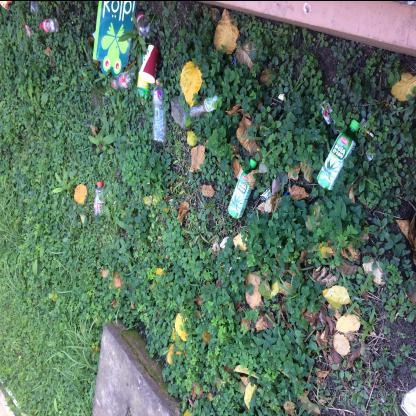cam: (318, 119, 361, 192), (228, 159, 258, 220)
karton: (92, 2, 138, 78), (139, 45, 161, 84), (1, 2, 15, 10)
plastik: (153, 79, 167, 143), (191, 96, 219, 118), (112, 70, 135, 92), (95, 182, 105, 216), (41, 17, 61, 33)
